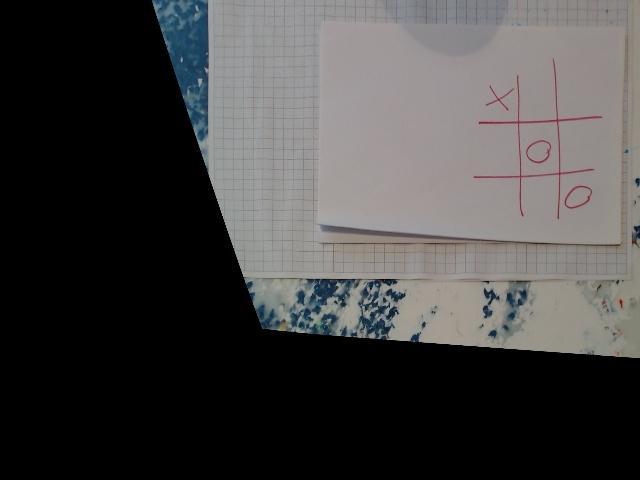O: (524, 139, 556, 166)
X: (481, 82, 514, 114), (564, 185, 598, 211)
grid: (462, 58, 608, 223)
